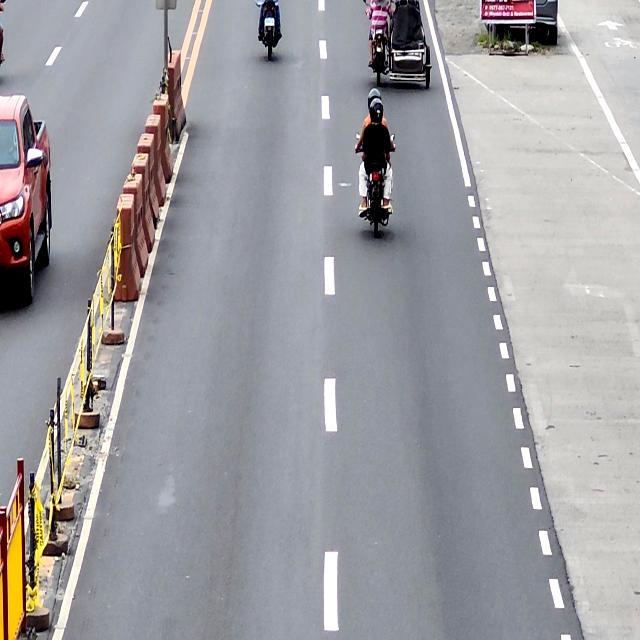License-Plate: (264, 16, 275, 28)
Motorcycle: (355, 132, 395, 238), (256, 0, 282, 62)
Tricycle: (366, 0, 430, 88)
